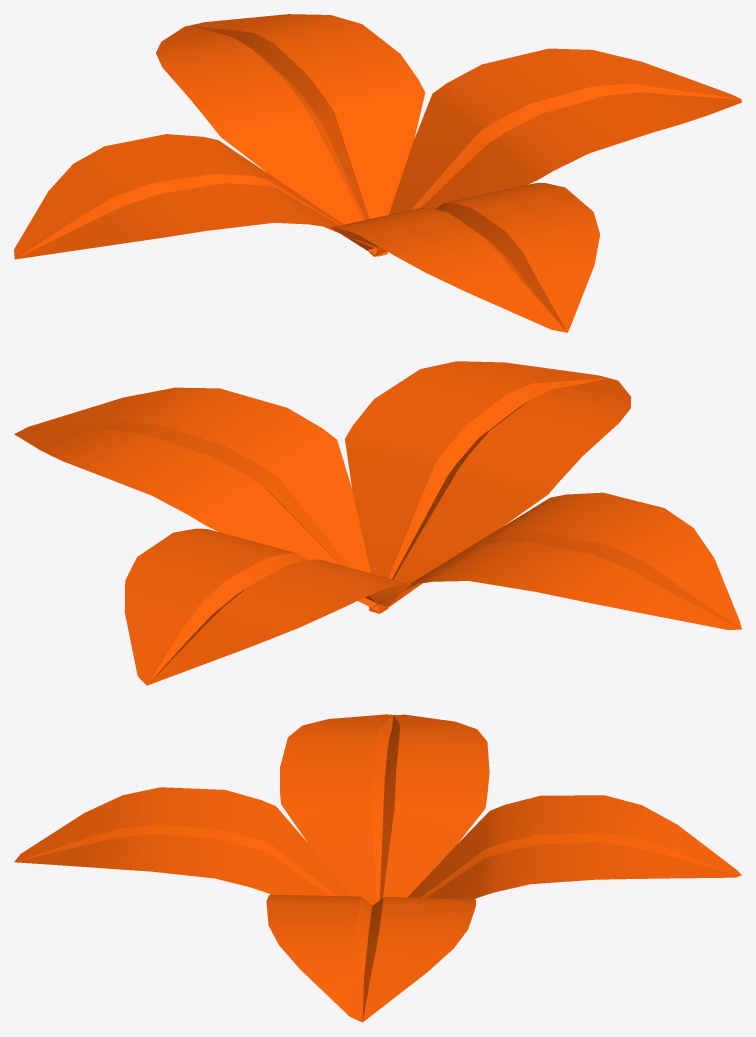
File: Grass005.fbx
The picture shows the model from 3 angles, top to bottom: view 1: azimuth 30°, elevation 25°; view 2: azimuth 150°, elevation 25°; view 3: azimuth 270°, elevation 25°; orthographic projection. The views are drawn at different scales.
Visible parts, largest first — view 1: leaf; view 2: leaf; view 3: leaf.
Boxes of the visible parts, <box> form: leaf: <box>14,14,741,332</box>; leaf: <box>14,361,741,685</box>; leaf: <box>14,714,741,1022</box>.
Size of the model in its own units: 55.55 by 8.49 by 55.55.
Materials: 1 (1 with a texture image).
